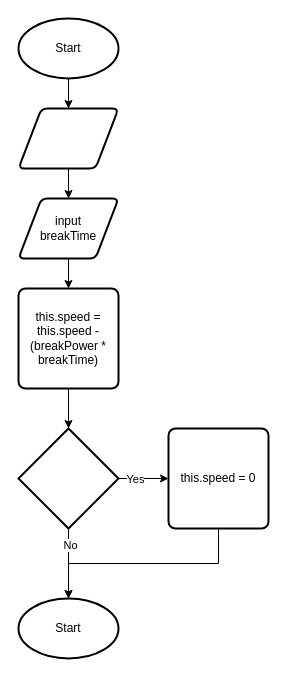
This 286x676 diagram has some shape labels left out. The centre of each missing label's shape, as x and y in pixels:
if this.speed < 0: point 68,478
input breakPower: point 68,138
